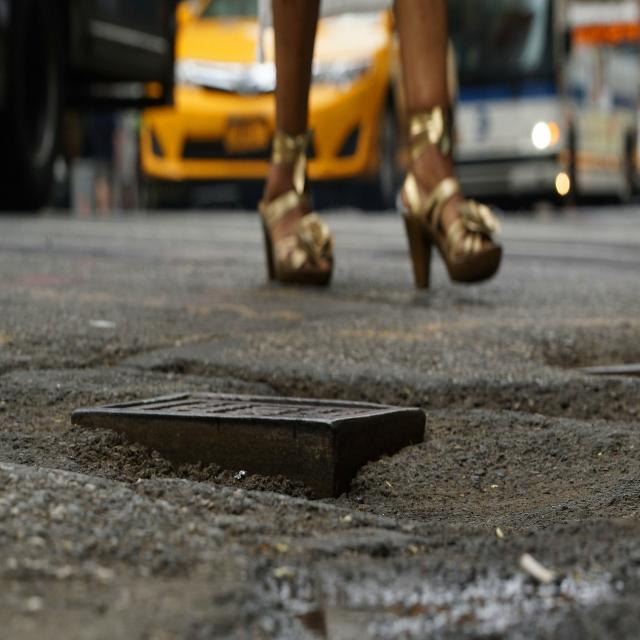Pothole: (61, 349, 640, 601)
